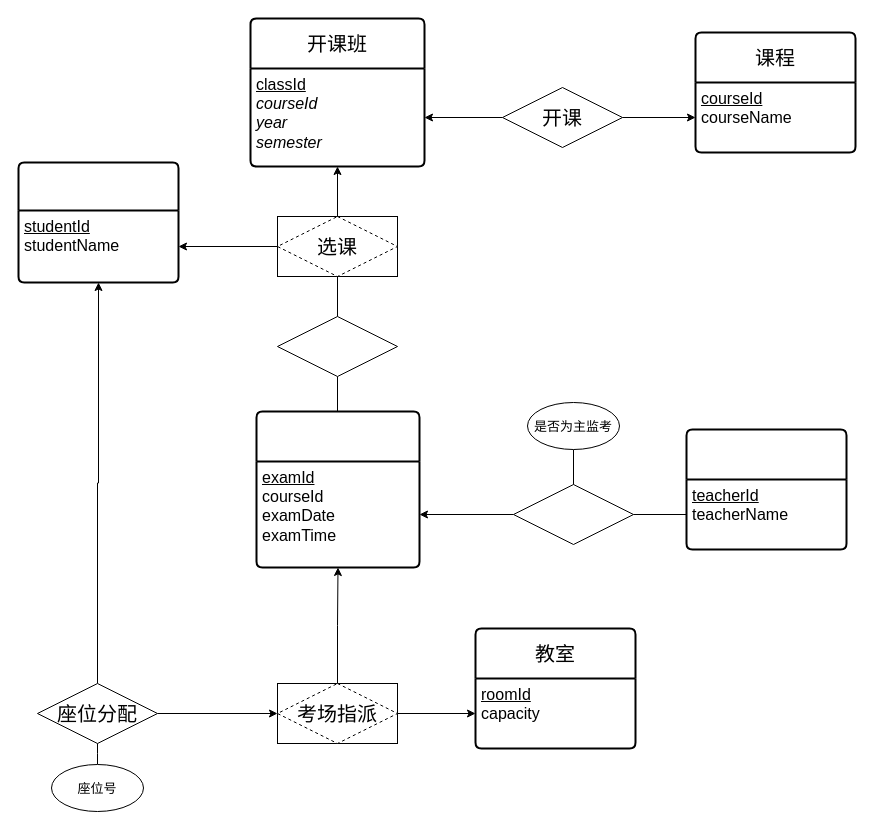
Some shapes in this 873 by 829 pixel diagram are drawn without their labels. Each missing label, with the box of its shape:
学生: (17, 161, 179, 283)
教师: (685, 428, 847, 550)
监考: (512, 484, 634, 544)
考试: (255, 410, 420, 568)
考试排期: (276, 316, 398, 376)
